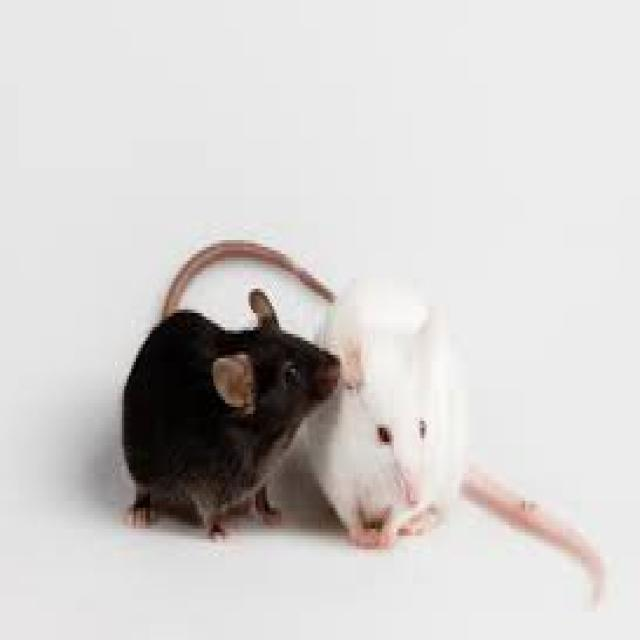Mouse: (117, 303, 339, 522), (309, 277, 472, 530)
